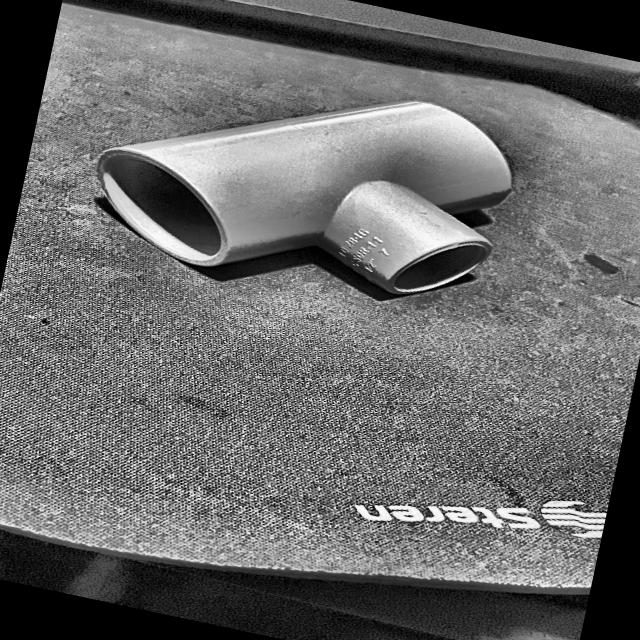EQUALTEE: (94, 100, 511, 297)
